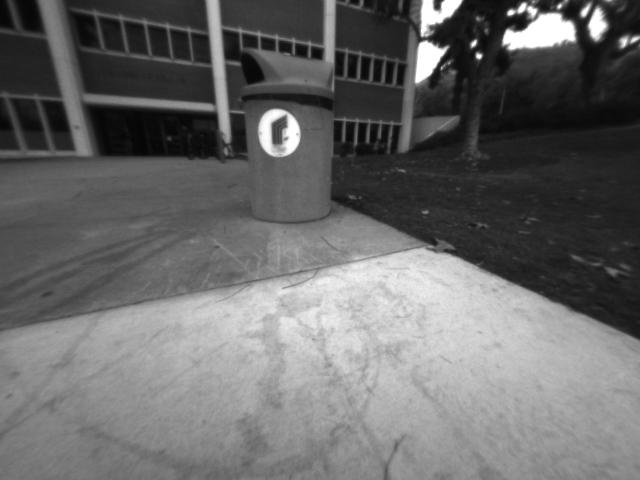trashcan: (238, 43, 346, 226)
